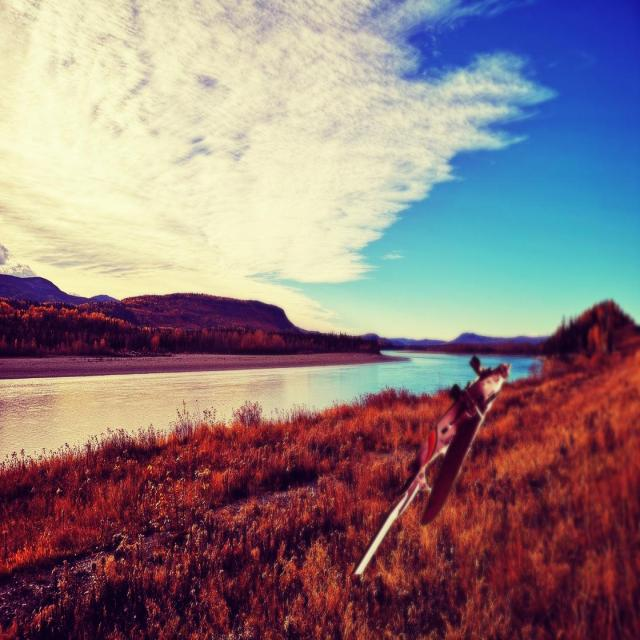airplane: (351, 354, 511, 576)
